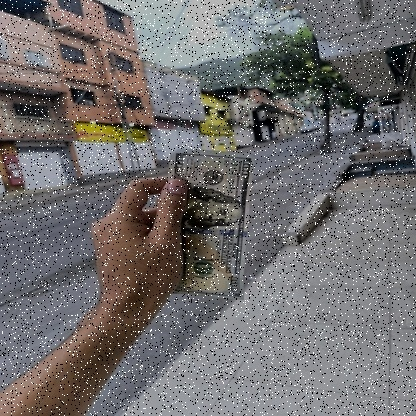one_hundred-front: (159, 149, 253, 302)
